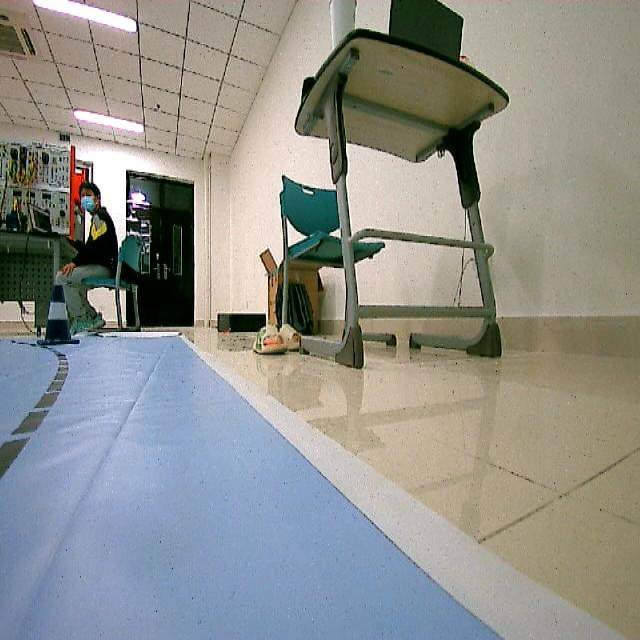obstacle: (37, 283, 79, 347)
